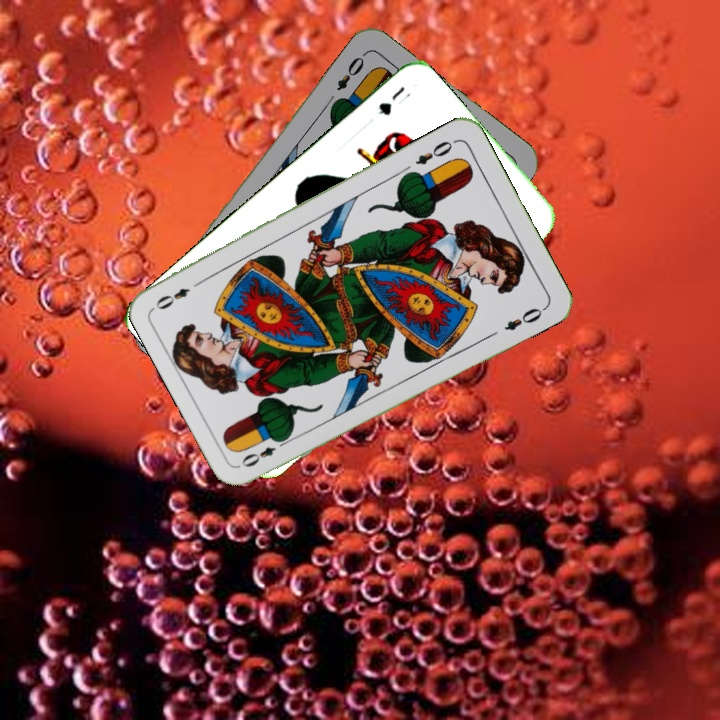EO: (237, 434, 292, 470), (332, 48, 369, 94), (411, 135, 459, 168)
GU: (374, 82, 408, 119)
